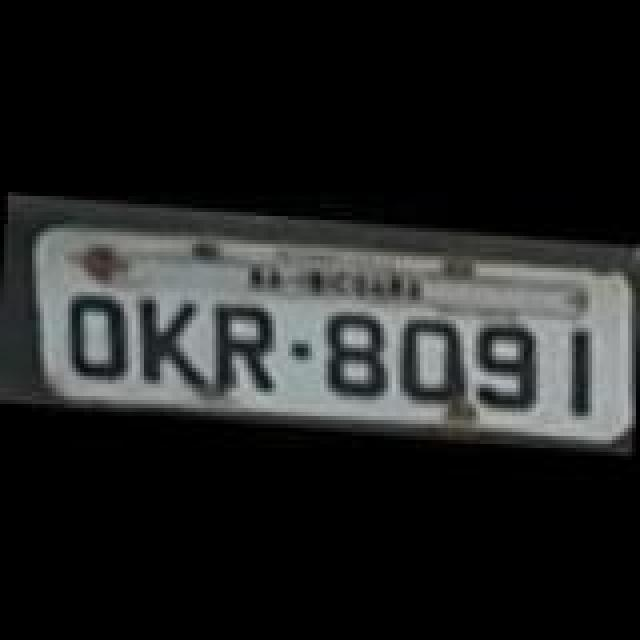1: (560, 322, 608, 418)
8: (320, 306, 400, 406)
9: (478, 320, 546, 412)
K: (132, 296, 220, 396)
O: (394, 310, 470, 406), (58, 290, 134, 386)
R: (208, 298, 288, 394)
